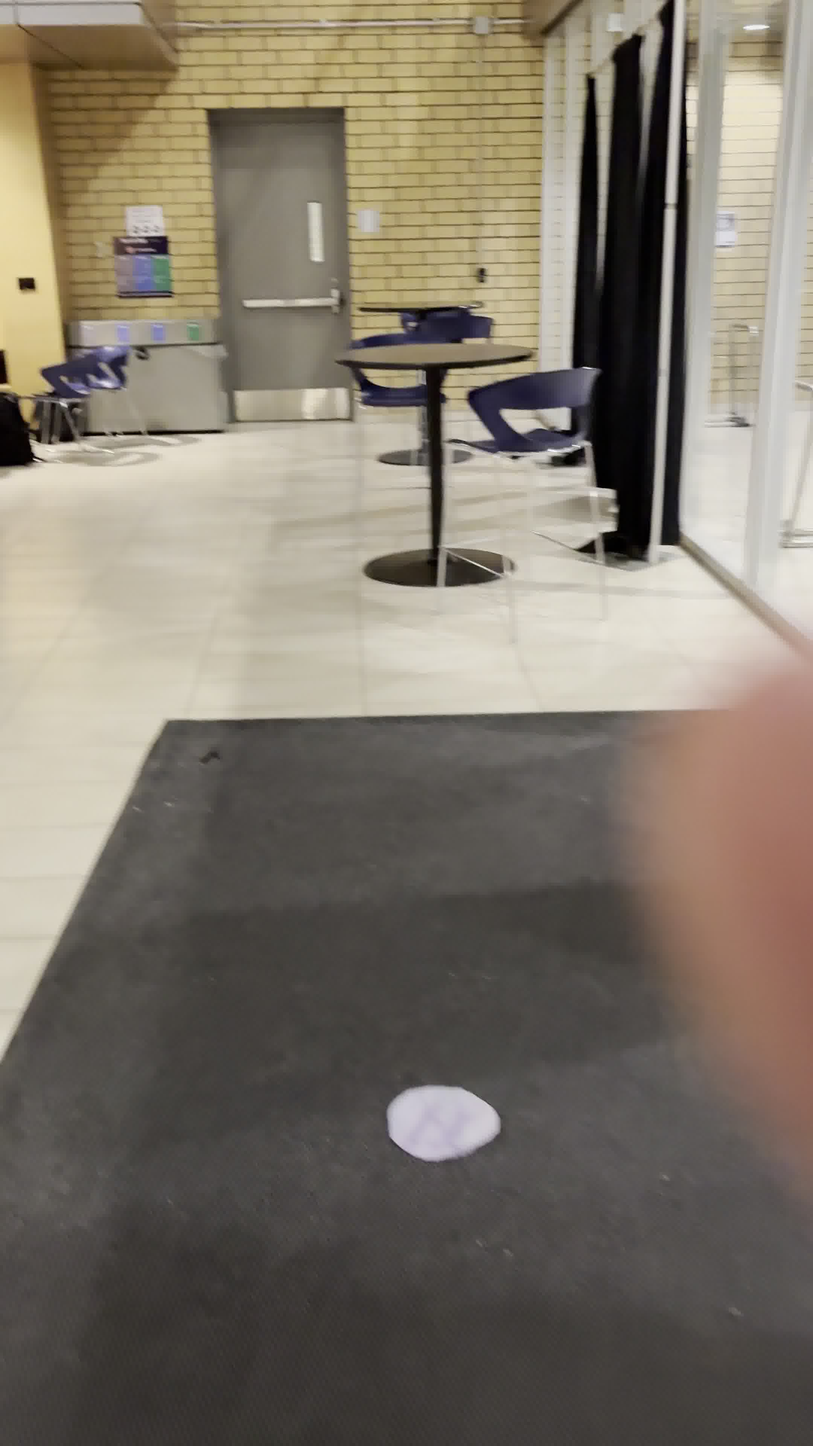Target: (384, 1068, 503, 1169)
